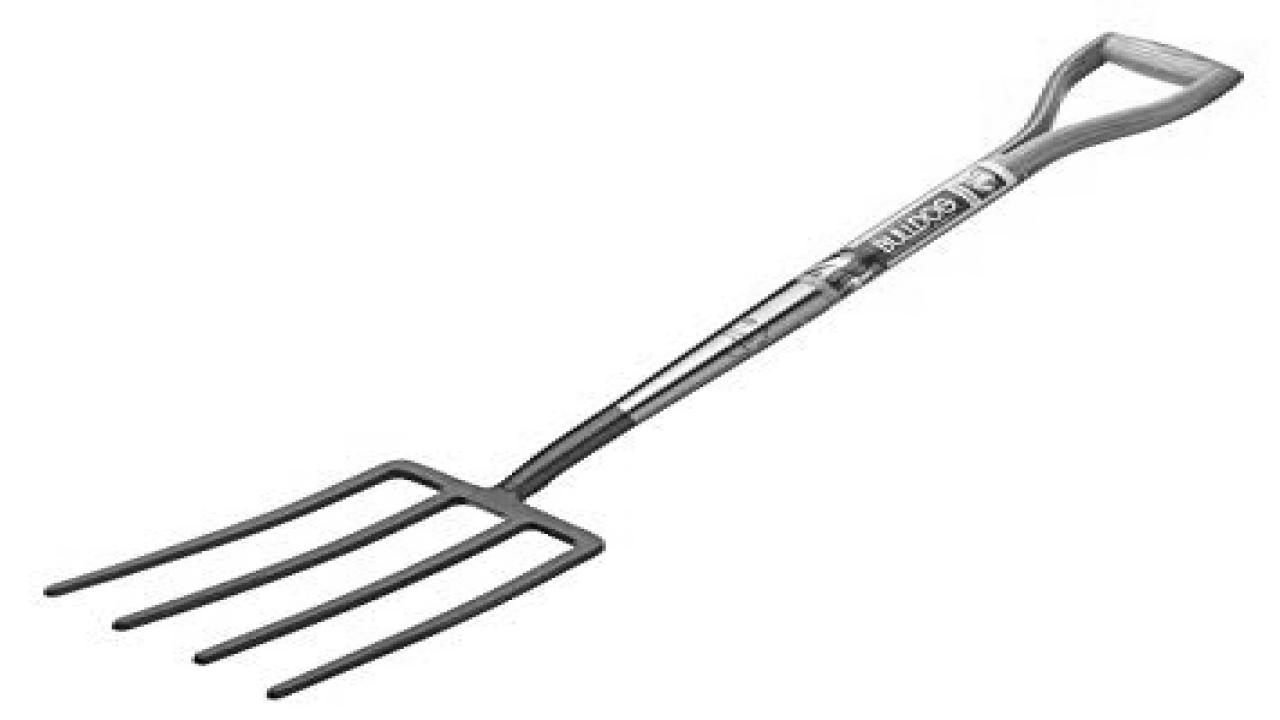fork: (40, 29, 1244, 698)
